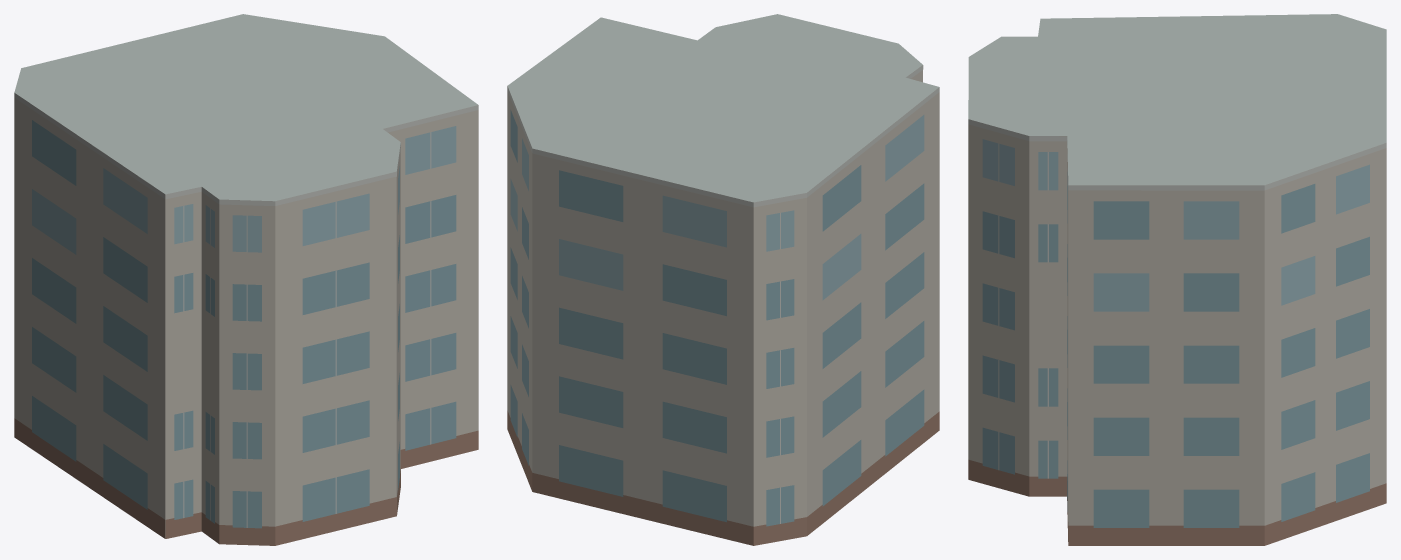
File: survey-upis-32458092.glb
The picture shows the model from 3 angles, left to right: view 1: azimuth 30°, elevation 25°; view 2: azimuth 150°, elevation 25°; view 3: azimuth 270°, elevation 25°; orthographic projection. The views are drawn at different scales.
Parts seen in each view (by area): view 1: survey-upis-32458092.tmp; view 2: survey-upis-32458092.tmp; view 3: survey-upis-32458092.tmp.
Boxes of the visible parts, left/top/right/bottom form: survey-upis-32458092.tmp: left=14, top=14, right=478, bottom=545; survey-upis-32458092.tmp: left=507, top=14, right=939, bottom=545; survey-upis-32458092.tmp: left=968, top=14, right=1386, bottom=545.
Size of the model in its own units: 17.33 by 17 by 17.88.
